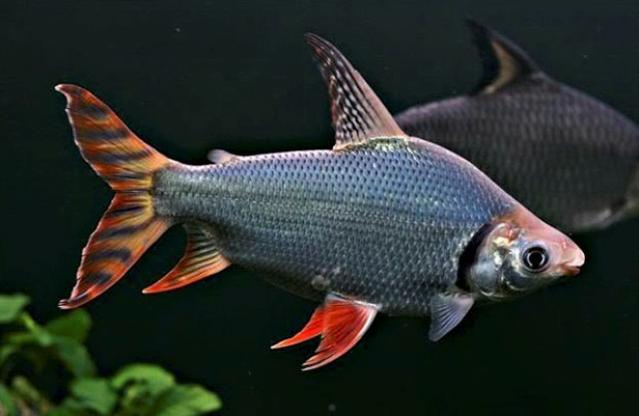Mulut: (530, 232, 610, 300)
Sirip Anal: (138, 210, 239, 306)
Sirip Dada: (418, 282, 482, 356)
Sirip Ekor: (41, 66, 173, 326)
Sirip Perut: (260, 274, 398, 384)
Sirip Punggung: (290, 20, 424, 174)
